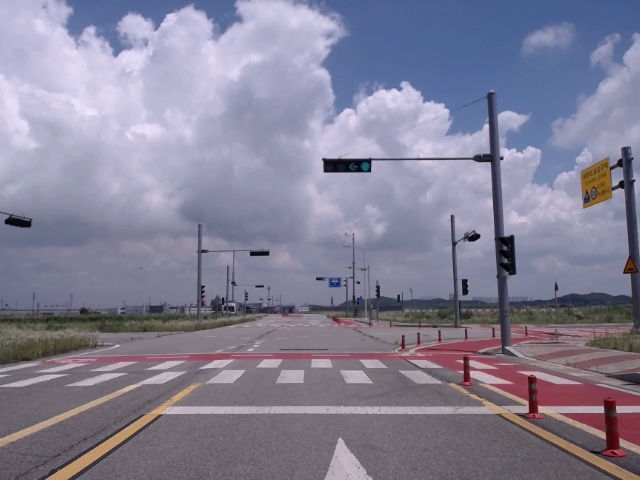all_green_4: (325, 160, 372, 175)
